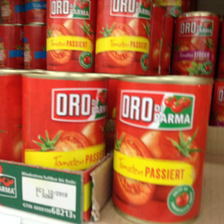tomato_sauce: (112, 75, 215, 223), (20, 72, 109, 173), (93, 1, 150, 74), (46, 1, 94, 74), (170, 11, 218, 76)
